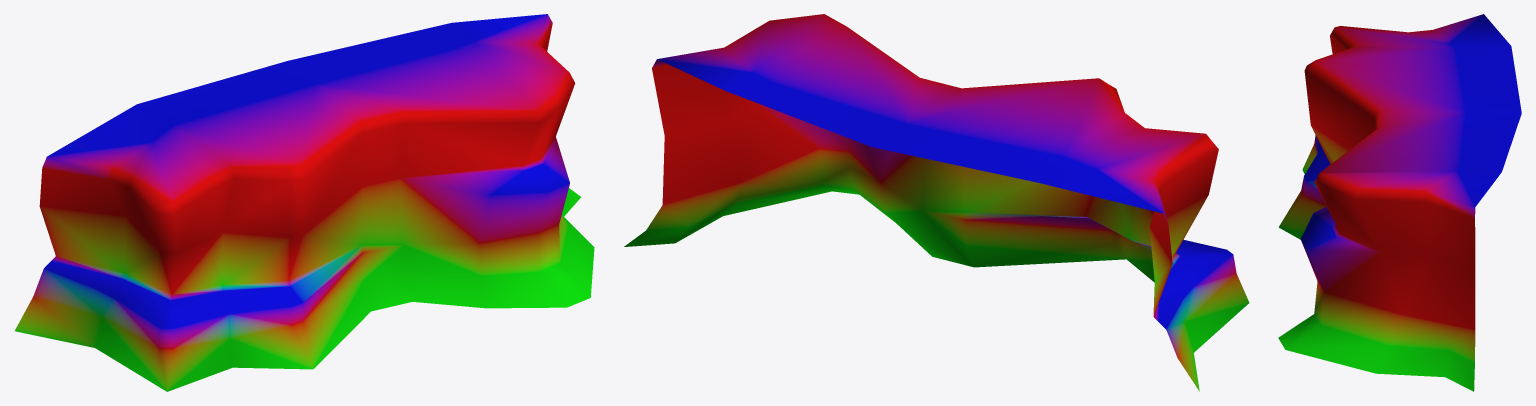
Rendered from M_Rock_Cliff_A.FBX.
3 renders of one model, left to right at view 1: azimuth 30°, elevation 25°; view 2: azimuth 150°, elevation 25°; view 3: azimuth 270°, elevation 25°, orthographic. The views are drawn at different scales.
Parts seen in each view (by area): view 1: Rock_Cliff_A; view 2: Rock_Cliff_A; view 3: Rock_Cliff_A.
Part boxes in pixels (x1,y1,x2,y2): Rock_Cliff_A: (15,14,594,391); Rock_Cliff_A: (624,14,1249,391); Rock_Cliff_A: (1278,14,1521,391).
Size of the model in its own units: 446 by 146 by 187.
